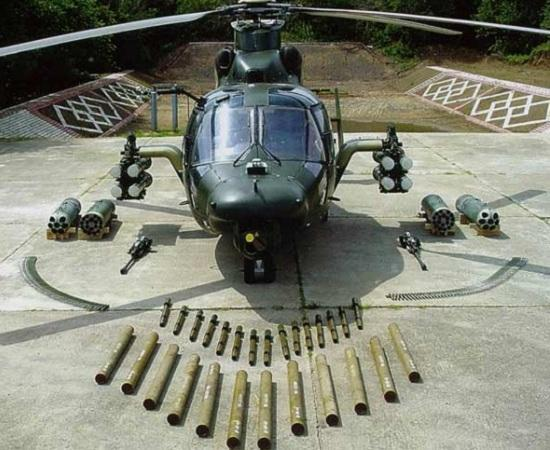airplane: (44, 1, 476, 265)
